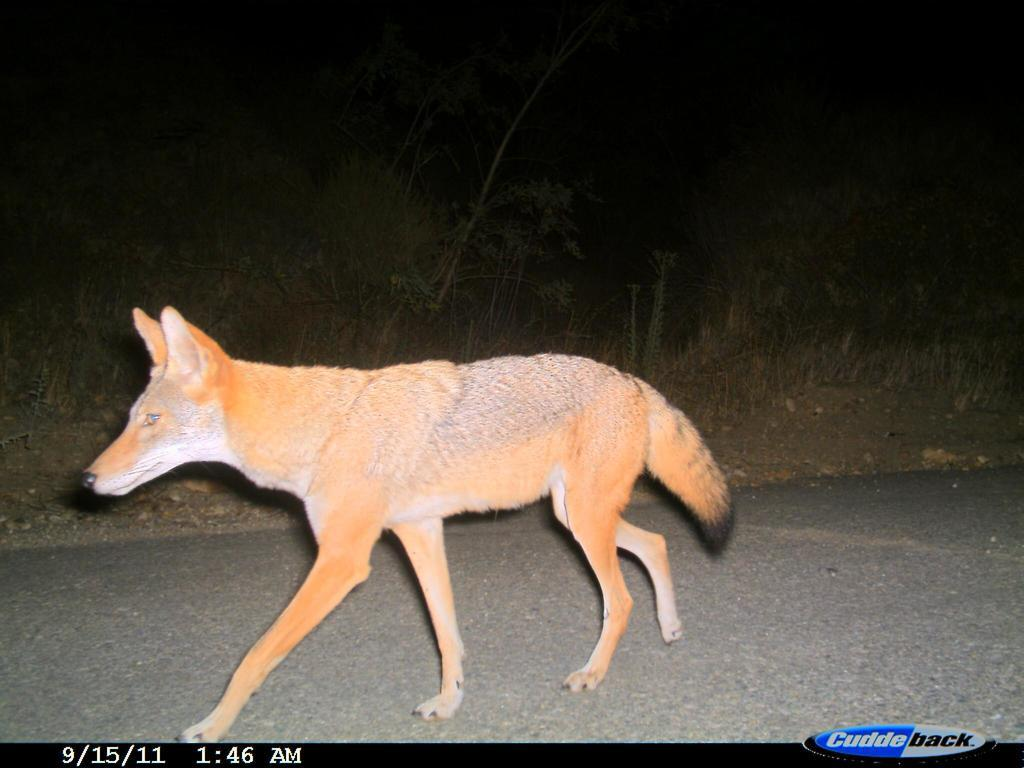coyote: (76, 304, 742, 744)
